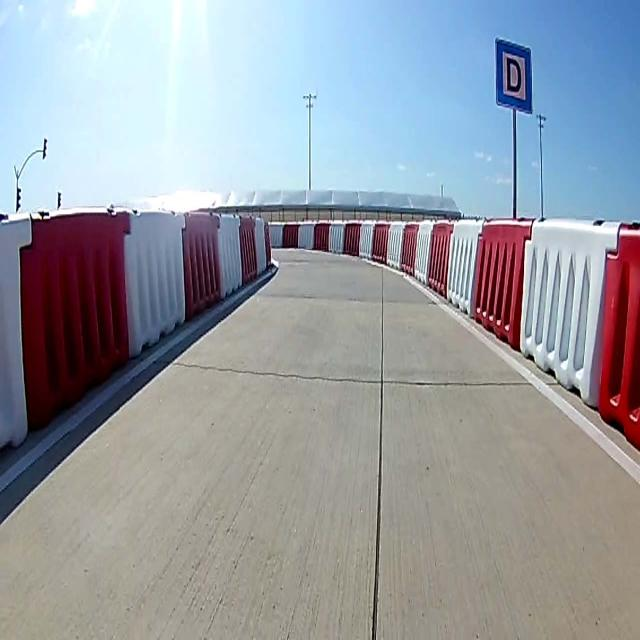durak: (495, 40, 534, 111)
